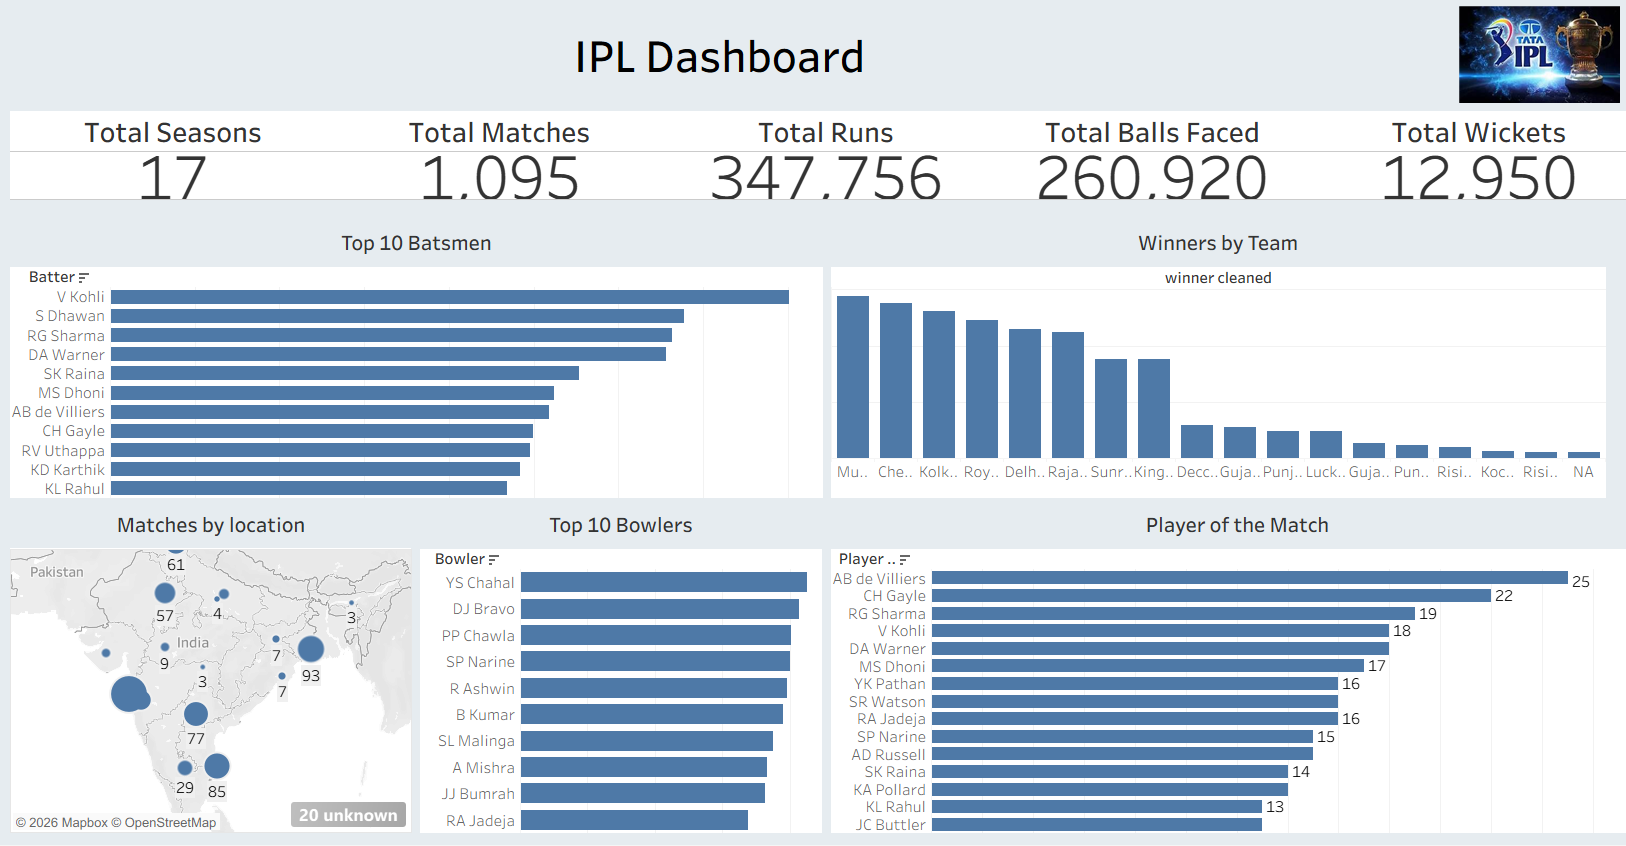

The page's visual inventory and layout, read from the dashboard file:
{"tool":"tableau","page":{"name":"IPL Dashboard","canvas":[1000,1000],"units":"permille","ordinal":0},"visuals":[{"type":"text","box":[4.8,9.4,861.2,123.4]},{"type":"image","param":"Image/IPL.jpeg","box":[866,9.4,129.2,123.4]},{"type":"worksheet","title":"KPIs","mark":"Automatic","box":[4.8,132.8,990.3,132.8]},{"type":"worksheet","title":"Top 10 Batsmen","mark":"Automatic","rows":["batter"],"cols":["batsman_runs"],"box":[4.8,265.6,495.2,331.4]},{"type":"worksheet","title":"Winners by Team","mark":"Automatic","rows":["id"],"cols":["Calculation_1860117917097986"],"box":[500,265.6,495.2,331.6]},{"type":"worksheet","title":"Matches by location","mark":"Automatic","box":[4.8,596.9,247.6,393.7]},{"type":"worksheet","title":"Top 10 Bowlers","mark":"Automatic","rows":["bowler"],"cols":["is_wicket"],"box":[252.4,596.9,247.6,393.7]},{"type":"worksheet","title":"Player of the Match","mark":"Automatic","rows":["player_of_match"],"cols":["id"],"box":[500,597.1,495.2,393.5]}]}

Visuals, with their boxes on the dashboard's canvas, which has no fixed pixel size, in thousandths of its width and height (x1, y1, x2, y2). These are canvas units, not pixel positions in the 1626x846 screenshot, which may show the page scaled, cropped or inside an application window:
text: <region>5, 9, 866, 133</region>
image: <region>866, 9, 995, 133</region>
"KPIs" worksheet: <region>5, 133, 995, 266</region>
"Top 10 Batsmen" worksheet: <region>5, 266, 500, 597</region>
"Winners by Team" worksheet: <region>500, 266, 995, 597</region>
"Matches by location" worksheet: <region>5, 597, 252, 991</region>
"Top 10 Bowlers" worksheet: <region>252, 597, 500, 991</region>
"Player of the Match" worksheet: <region>500, 597, 995, 991</region>
